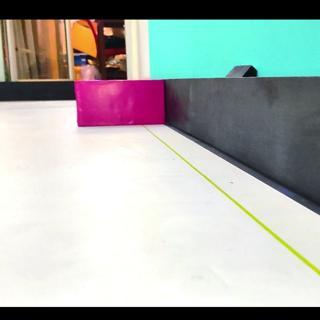xparking: (78, 80, 163, 125)
